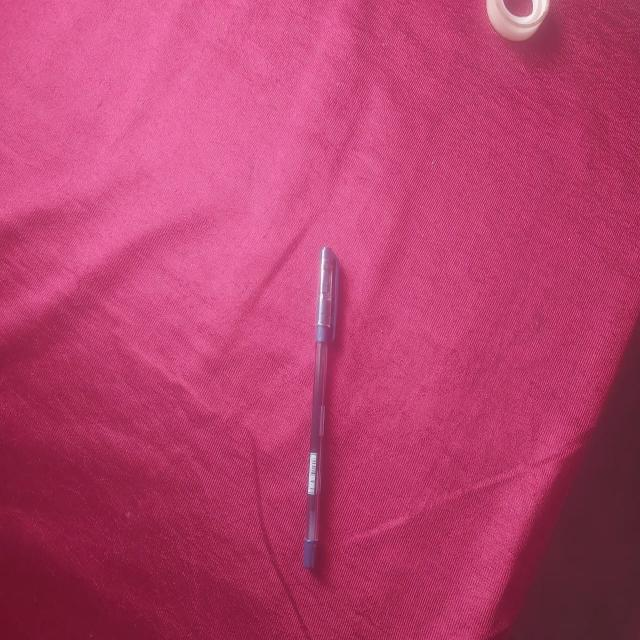blessing_card: (301, 242, 345, 584)
